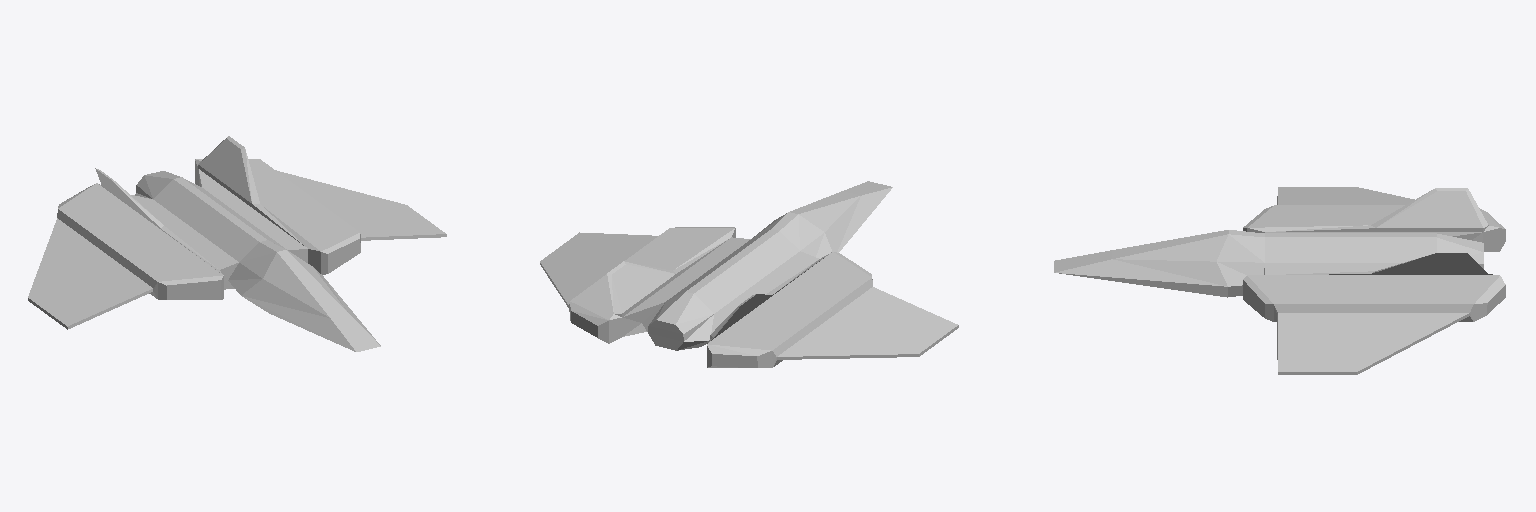
File: ship.obj
3 views of the same model, side by side, from view 1: azimuth 30°, elevation 25°; view 2: azimuth 150°, elevation 25°; view 3: azimuth 270°, elevation 25° (orthographic).
Size of the model in its own units: 1.17 by 0.2069 by 1.2.